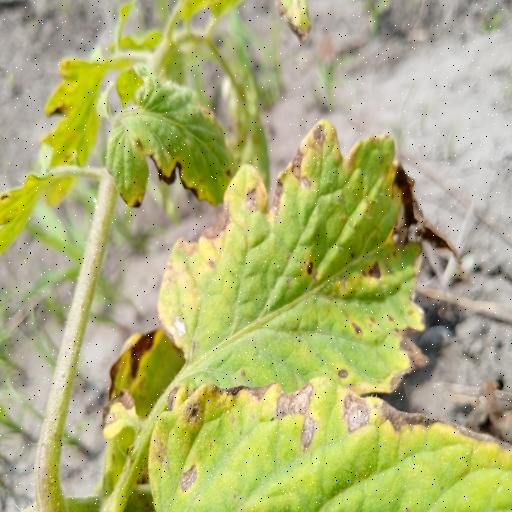Tomato_Brown_Spots: (156, 118, 456, 401), (143, 379, 512, 512), (103, 62, 243, 214)
